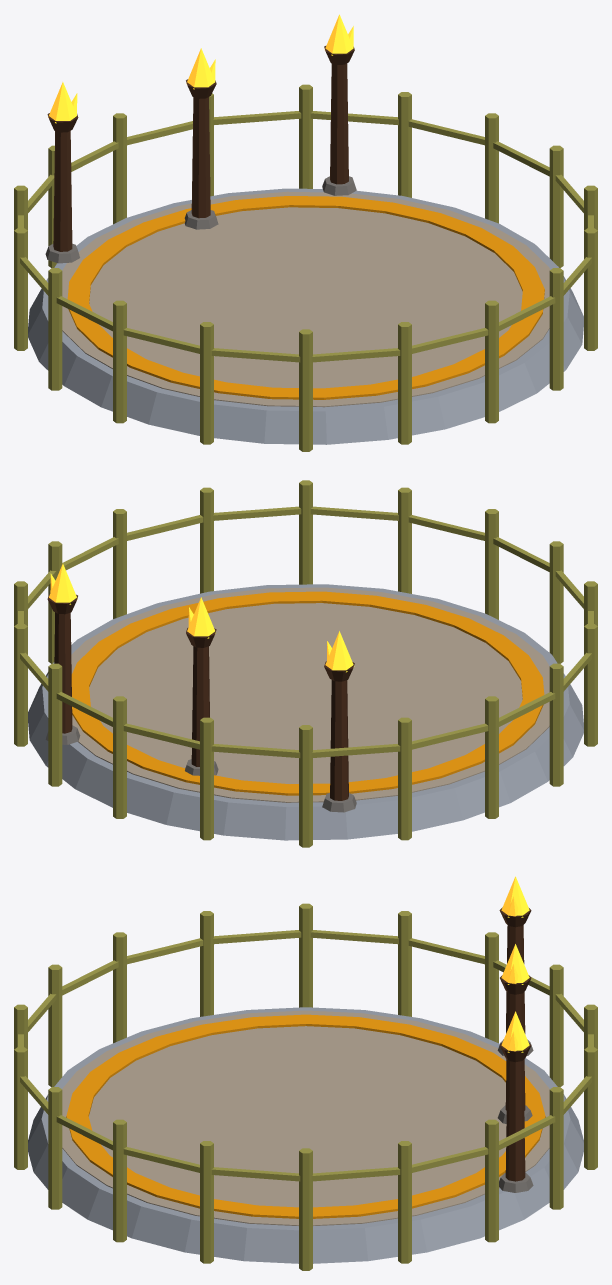
File: panggung_bundar_v002.glb
3 renders of one model, top to bottom at view 1: azimuth 30°, elevation 25°; view 2: azimuth 150°, elevation 25°; view 3: azimuth 270°, elevation 25°, orthographic.
Parts seen in each view (by area): view 1: Arena_Uji, Pagar_Uji, Cincin_Aksen, Api_2_Nyala, Api_3_Nyala, Api_1_Nyala; view 2: Arena_Uji, Pagar_Uji, Cincin_Aksen, Api_2_Nyala, Api_3_Nyala, Api_1_Nyala; view 3: Arena_Uji, Pagar_Uji, Cincin_Aksen, Api_1_Nyala, Api_3_Nyala, Api_2_Nyala.
Part boxes in pixels (box(x1,y1,x2,y2)): Arena_Uji: box(28, 46, 583, 444); Pagar_Uji: box(14, 84, 597, 451); Cincin_Aksen: box(67, 196, 544, 399); Api_2_Nyala: box(186, 48, 215, 89); Api_3_Nyala: box(324, 14, 353, 55); Api_1_Nyala: box(48, 82, 77, 123); Arena_Uji: box(28, 584, 583, 840); Pagar_Uji: box(14, 480, 597, 847); Cincin_Aksen: box(71, 591, 544, 795); Api_2_Nyala: box(187, 597, 215, 638); Api_3_Nyala: box(49, 563, 77, 604); Api_1_Nyala: box(325, 631, 354, 672); Arena_Uji: box(28, 907, 583, 1263); Pagar_Uji: box(14, 903, 597, 1270); Cincin_Aksen: box(66, 1014, 545, 1218); Api_1_Nyala: box(501, 876, 529, 917); Api_3_Nyala: box(501, 1011, 529, 1052); Api_2_Nyala: box(501, 944, 529, 984).
Size of the model in its own units: 5.92 by 2.24 by 5.85.
